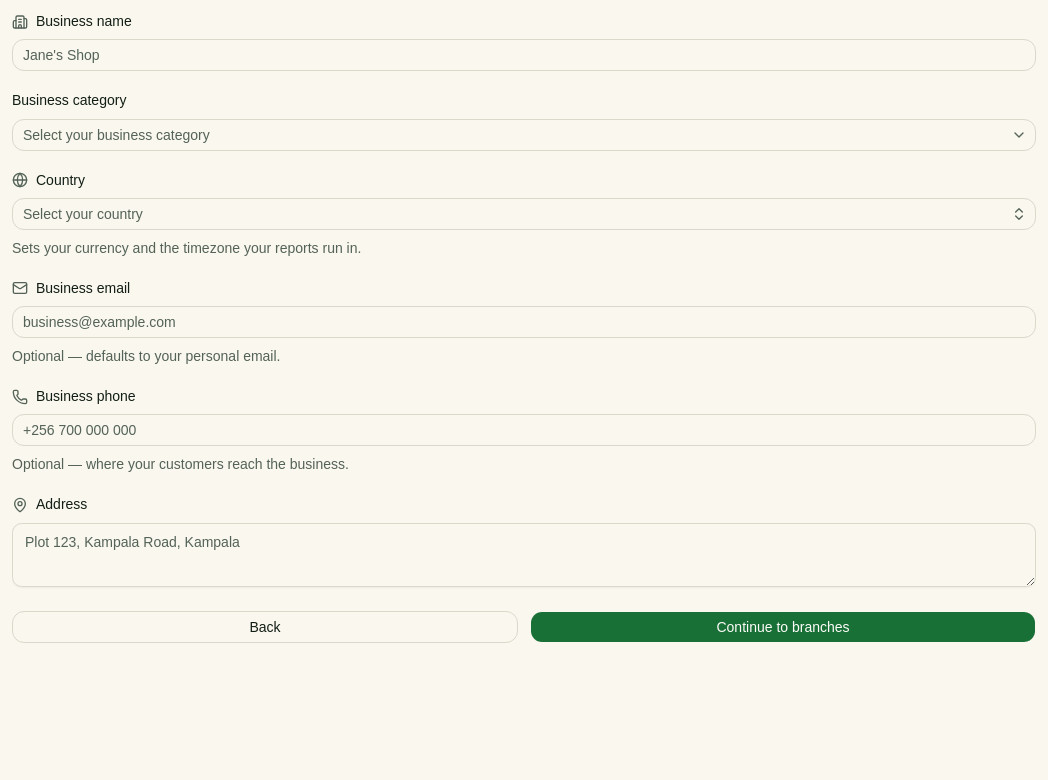
Test: the business category selector › offers every category the endpoint returned
This screenshot has width=1048, height=780.
Click the dropdown at (116, 134), box [12,118,1036,150]
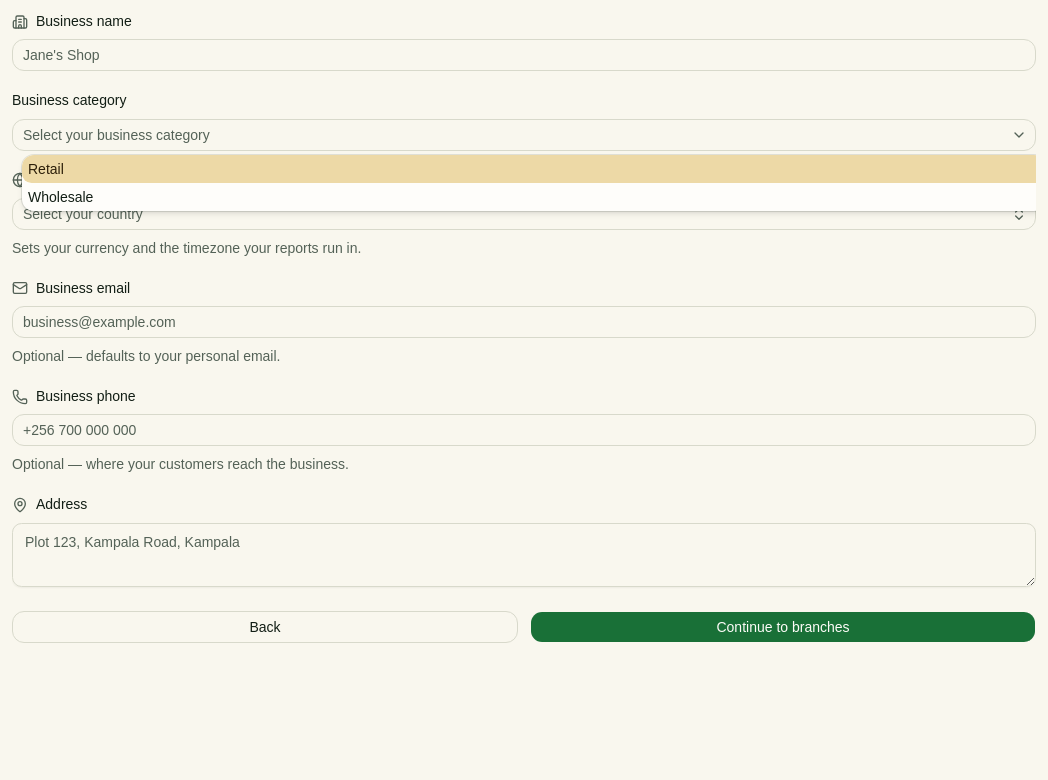
Expected: the option "Wholesale" is shown, [28,189,93,205]
